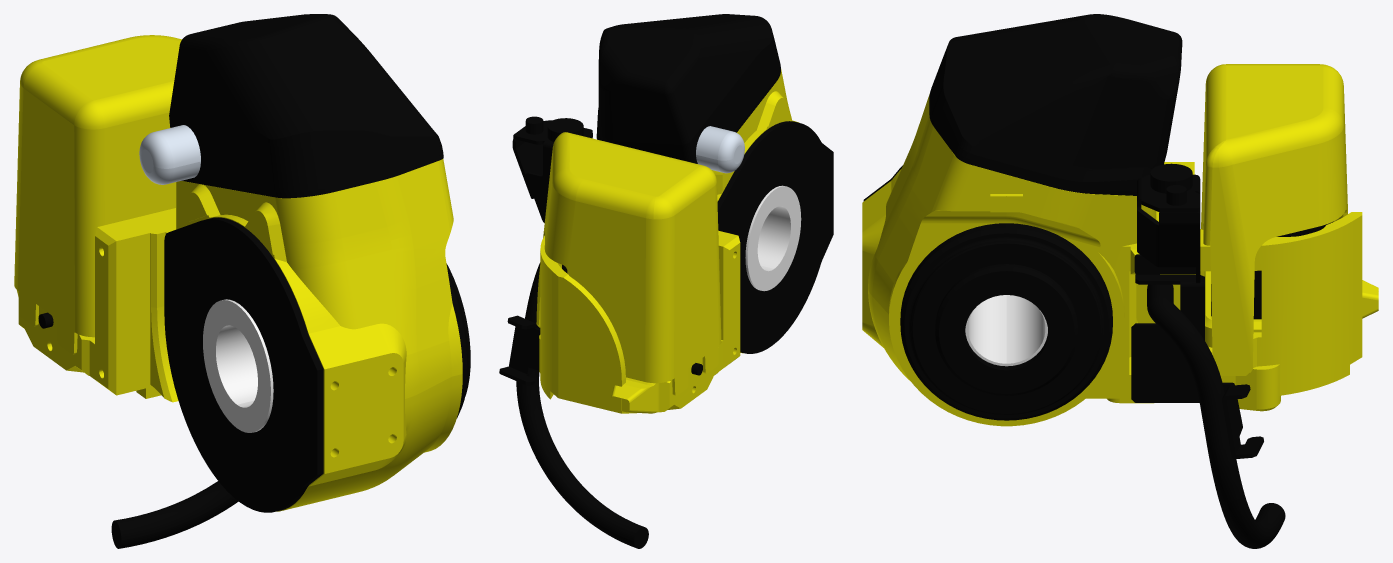
3 renders of one model, left to right at view 1: azimuth 30°, elevation 25°; view 2: azimuth 150°, elevation 25°; view 3: azimuth 270°, elevation 25°, orthographic. The views are drawn at different scales.
Parts seen in each view (by area): view 1: Mesh_0; view 2: Mesh_0; view 3: Mesh_0.
Boxes of the visible parts, x1,y1,x2,y2 form: Mesh_0: [14, 14, 470, 548]; Mesh_0: [499, 14, 833, 548]; Mesh_0: [862, 14, 1378, 548].
Size of the model in its own units: 0.2161 by 0.4272 by 0.379.
